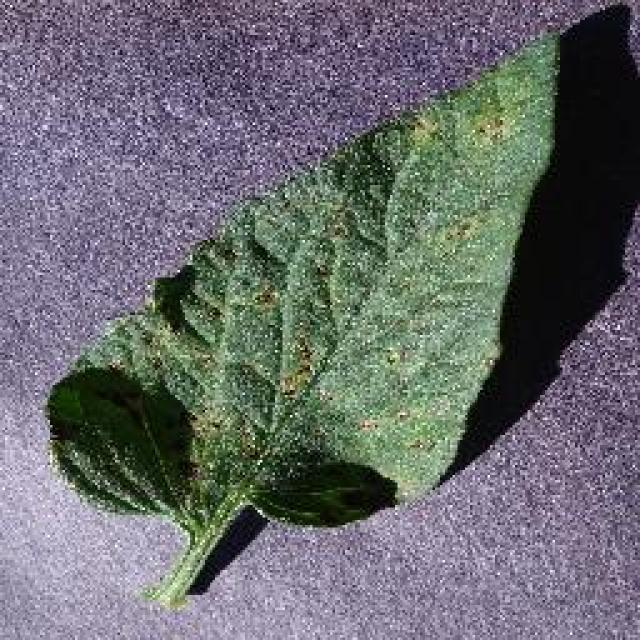Tomato Septoria spot leaf: (45, 26, 560, 532)
